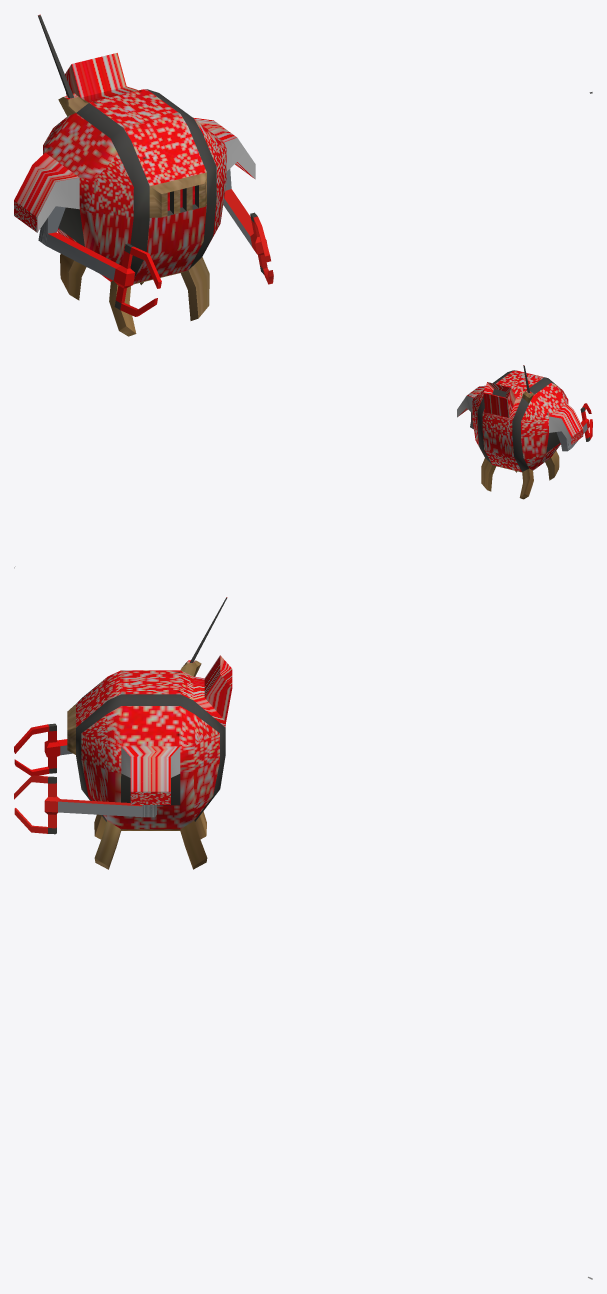
File: guideRed.fbx
3 views of the same model, one above another, from view 1: azimuth 30°, elevation 25°; view 2: azimuth 150°, elevation 25°; view 3: azimuth 270°, elevation 25° (orthographic). The views are drawn at different scales.
Parts seen in each view (by area): view 1: pCube1; view 2: pCube1; view 3: pCube1.
Boxes of the visible parts, left/top/right/bottom form: pCube1: left=14, top=14, right=273, bottom=336; pCube1: left=457, top=365, right=592, bottom=499; pCube1: left=14, top=597, right=232, bottom=869.
Size of the model in its own units: 2.98 by 1.46 by 2.12.
